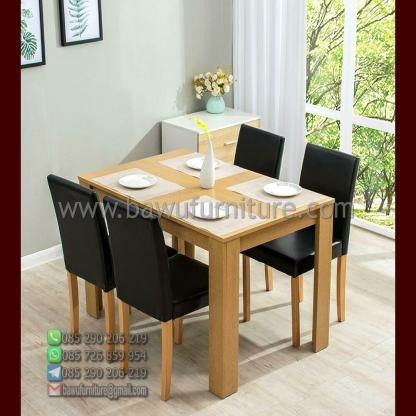Dining Table: (37, 142, 394, 329)
Wooden floor: (20, 245, 362, 416), (326, 228, 396, 385)
